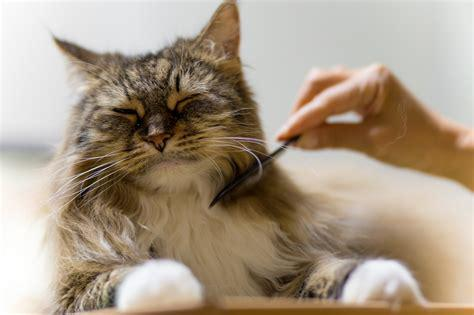cat: (46, 1, 423, 315)
